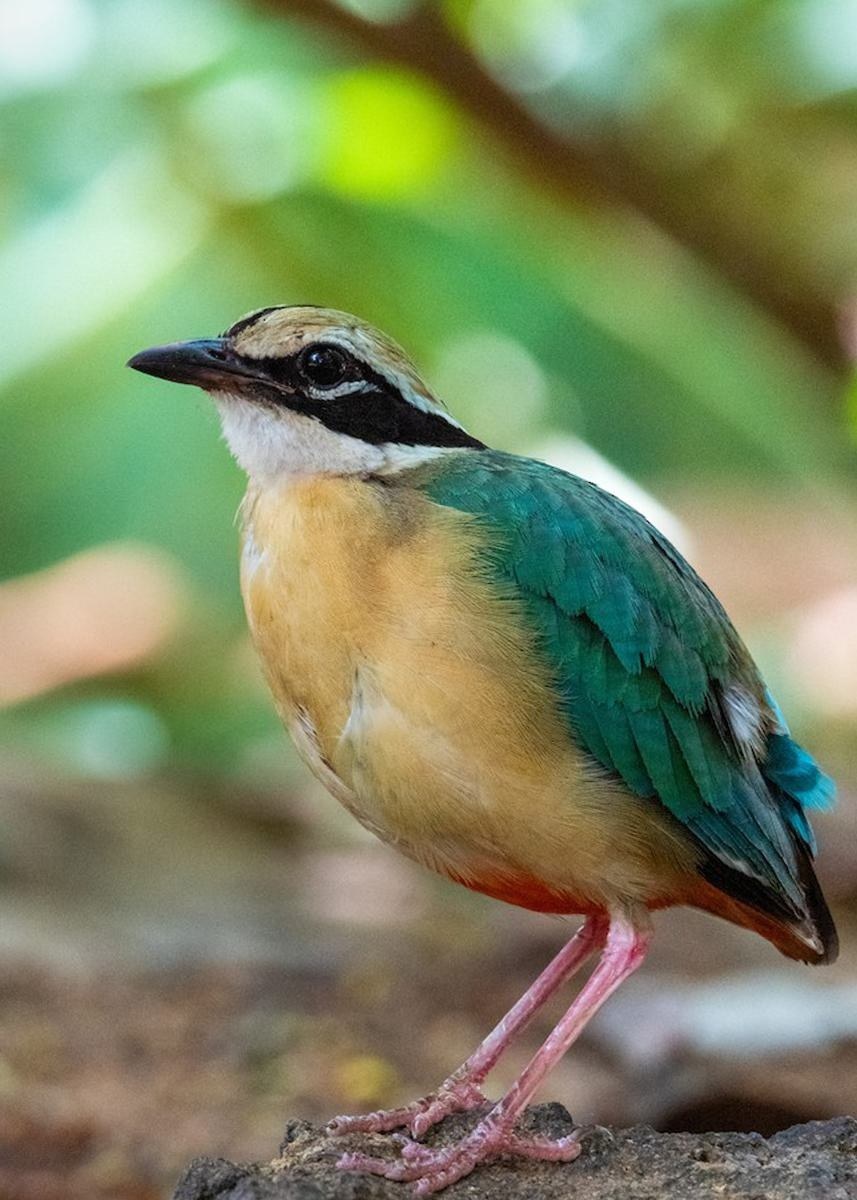pitta: (106, 292, 857, 1156)
